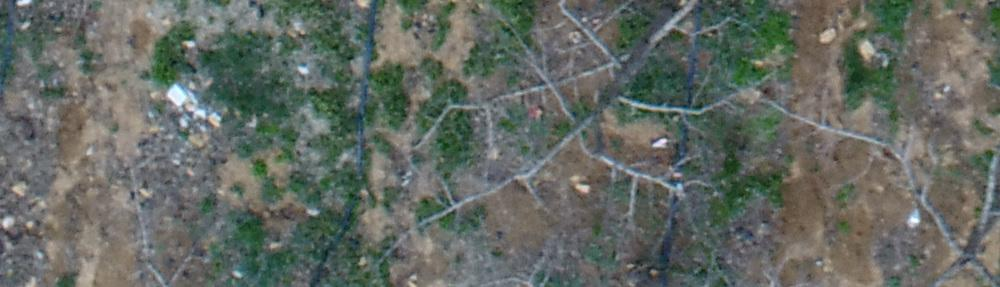apple: (384, 10, 800, 266)
